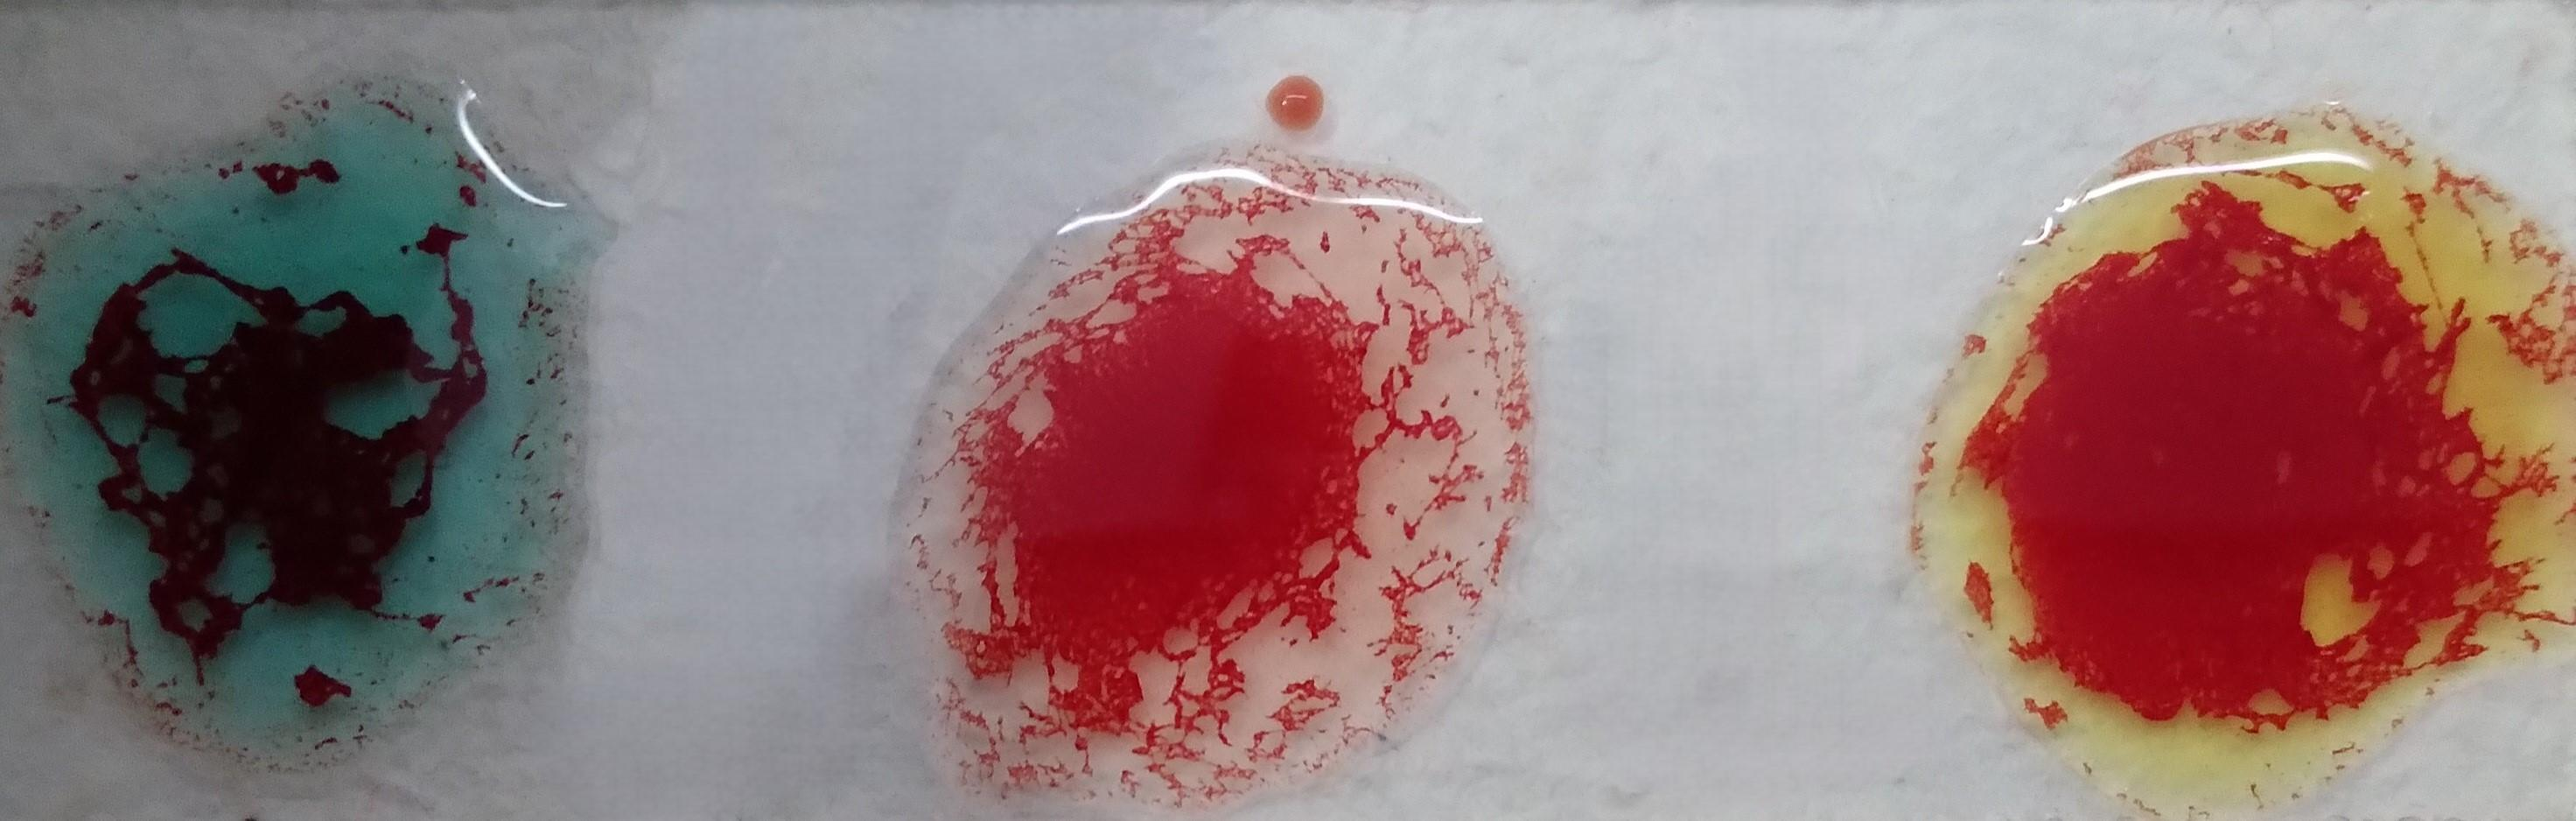A: (44, 97, 560, 775)
B: (1925, 94, 2576, 800)
D: (887, 130, 1513, 819)
